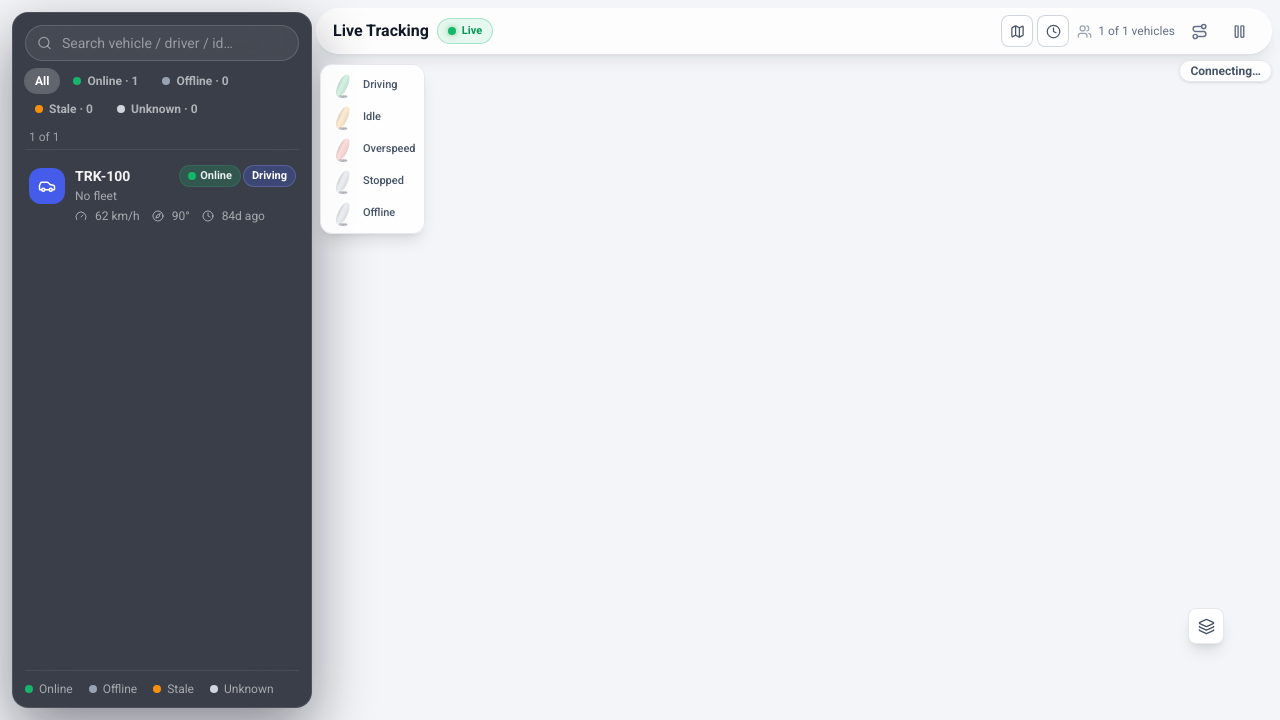
Test: Live Tracking — Tailwind device popup drawer › opens on row select and closes on backdrop WITHOUT clearing selection
This screenshot has width=1280, height=720.
Click the text "TRK-100": [103, 176] box [75,166,130,186]
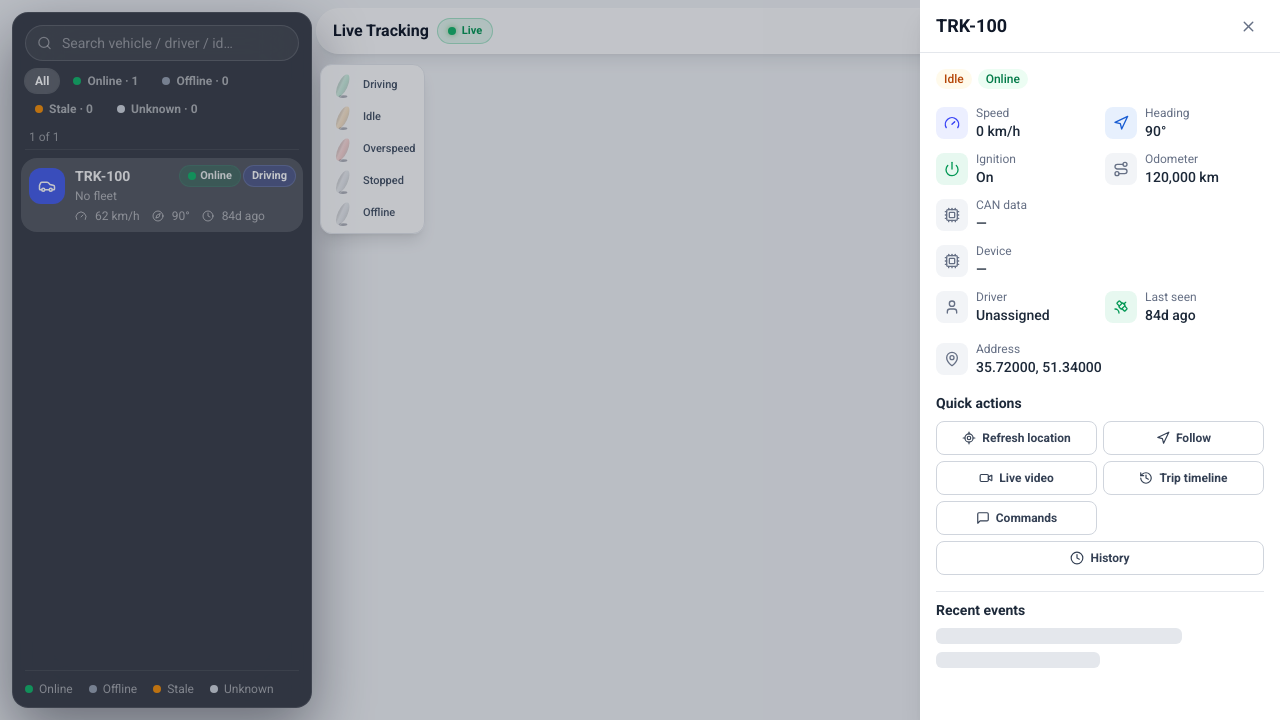
Expected: the element with test id "device-popup-overlay" shows "TRK-100", [936,15,1007,36]
// Backdrop press closes the drawer…
Click the 1st button named "Close": [640, 360] box [0,0,1279,719]
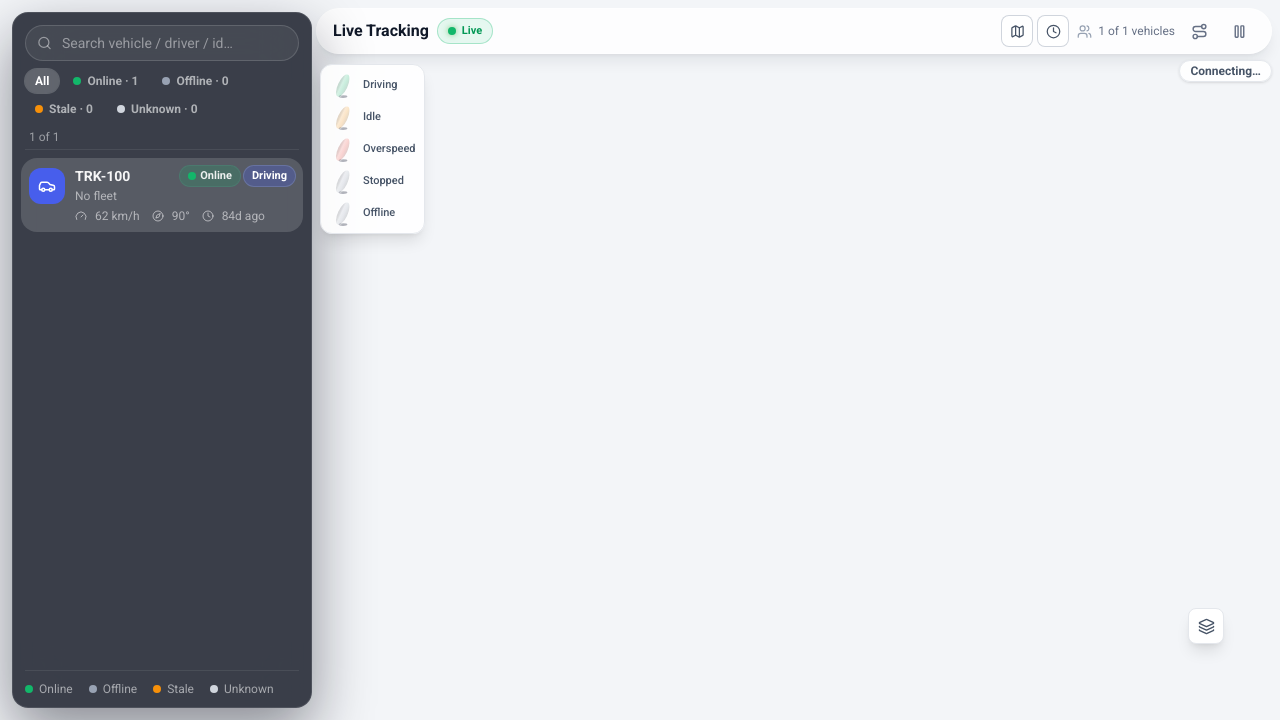
Expected: the element with test id "device-popup-overlay" is gone
